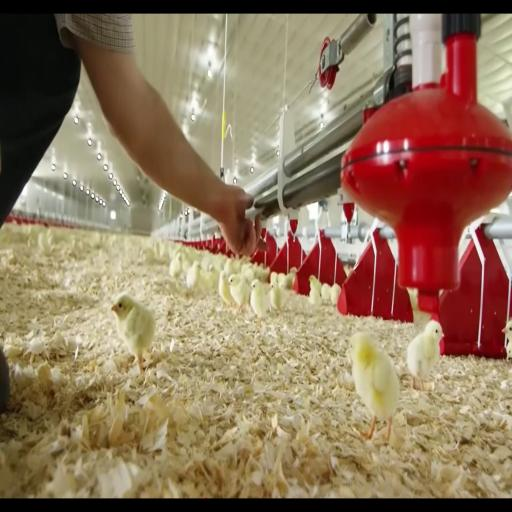chick: (349, 333, 399, 441), (112, 294, 155, 373), (407, 320, 443, 390), (250, 280, 269, 326), (229, 275, 250, 313), (219, 270, 231, 305), (186, 261, 200, 290), (270, 284, 283, 310), (503, 319, 511, 359), (170, 253, 182, 279), (207, 264, 217, 290), (309, 286, 322, 306), (331, 283, 341, 306), (309, 275, 321, 294), (242, 265, 255, 282), (287, 267, 297, 289), (224, 259, 235, 278), (321, 284, 330, 303), (278, 274, 286, 289), (270, 272, 277, 284)
